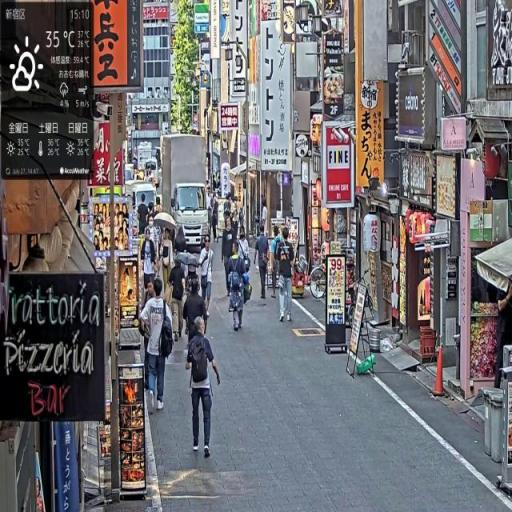person: (187, 315, 224, 464), (140, 277, 176, 413), (228, 239, 251, 334), (276, 226, 297, 323), (169, 254, 188, 342), (255, 224, 272, 303), (221, 213, 236, 296), (141, 227, 158, 298)
